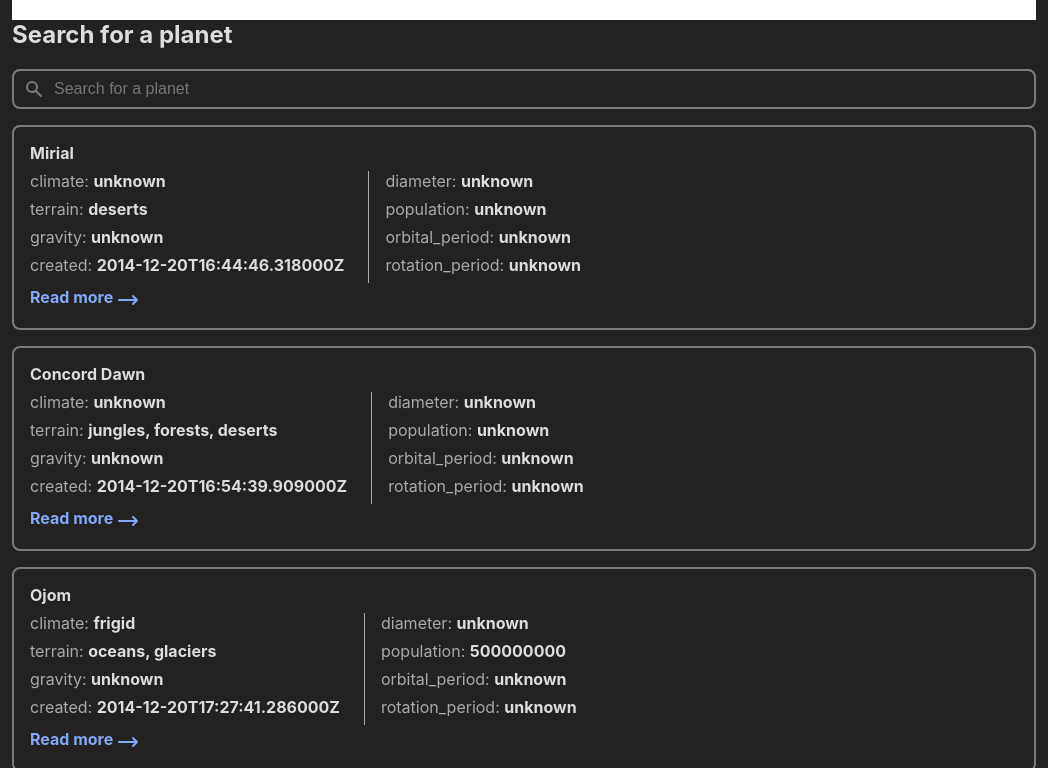
Test case: it displays a information if it does not find the planet
The image size is (1048, 768).
Step 1. Type "Unknown name" into the search field named "search-input" → (524, 89), box [12, 69, 1036, 109]
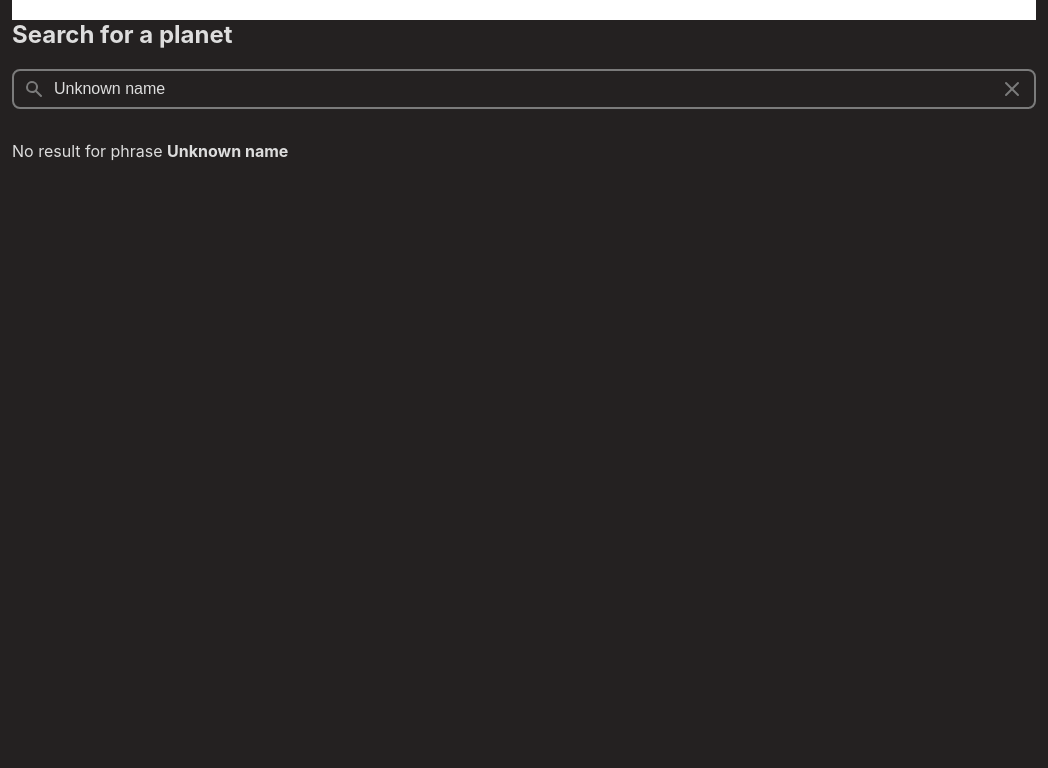
Check: the text "No result for phrase Unknown name" is shown, box [12, 141, 288, 161]
